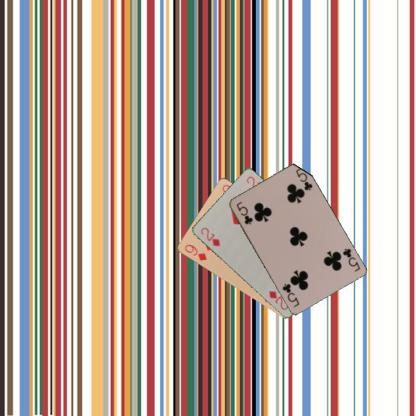2d: (198, 225, 220, 247)
5c: (233, 199, 254, 226), (340, 245, 361, 272)
9d: (182, 242, 208, 262)
